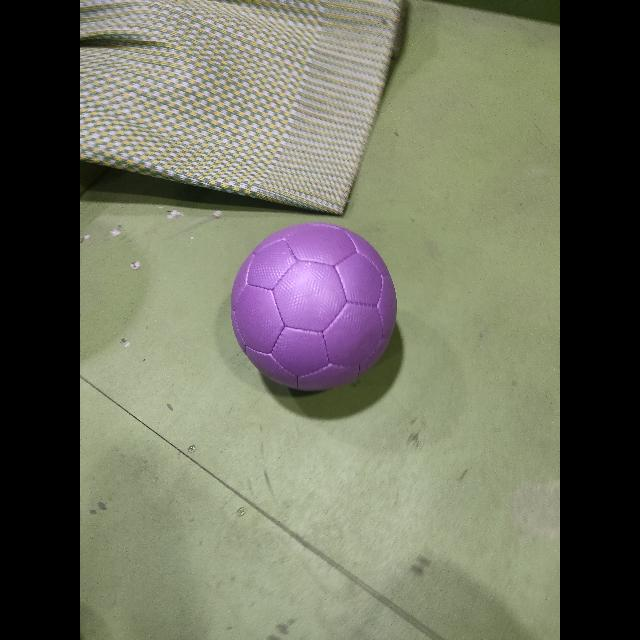P: (232, 223, 396, 391)
